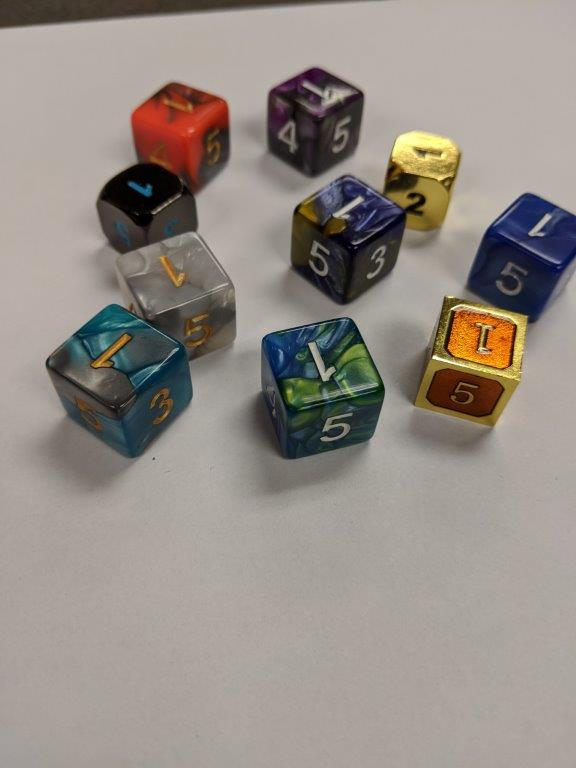d6-1: (46, 302, 192, 459), (259, 317, 387, 462), (115, 231, 237, 363), (414, 294, 529, 434), (288, 170, 404, 306), (467, 191, 575, 325), (133, 80, 232, 192), (268, 63, 365, 177), (381, 128, 461, 233), (96, 162, 198, 240)
